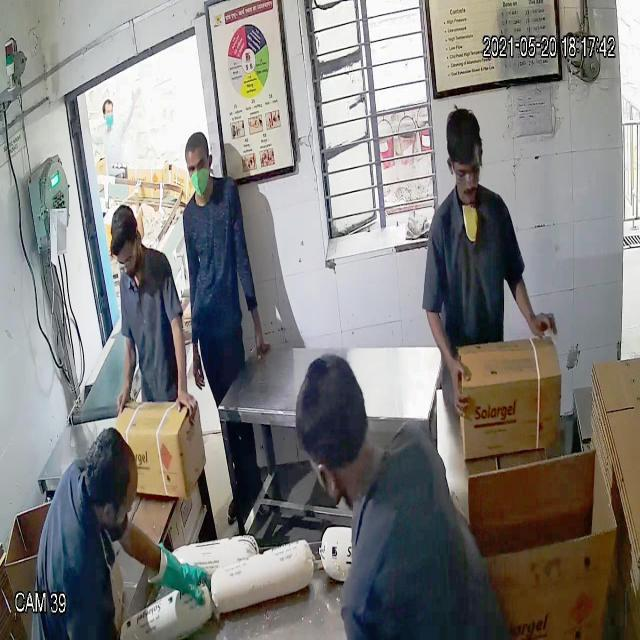glasses: (442, 146, 484, 186), (107, 245, 139, 271)
no-glass: (178, 151, 222, 180)
